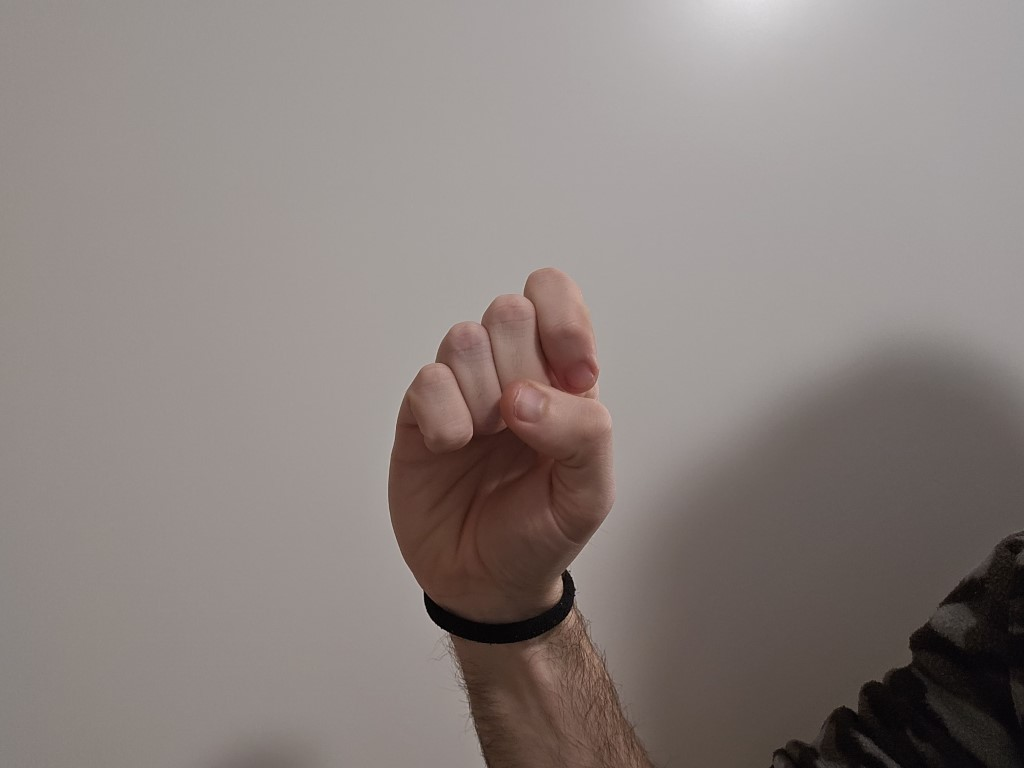s: (355, 252, 638, 607)
